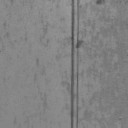surface scratch: (70, 0, 74, 128), (76, 0, 80, 128)
